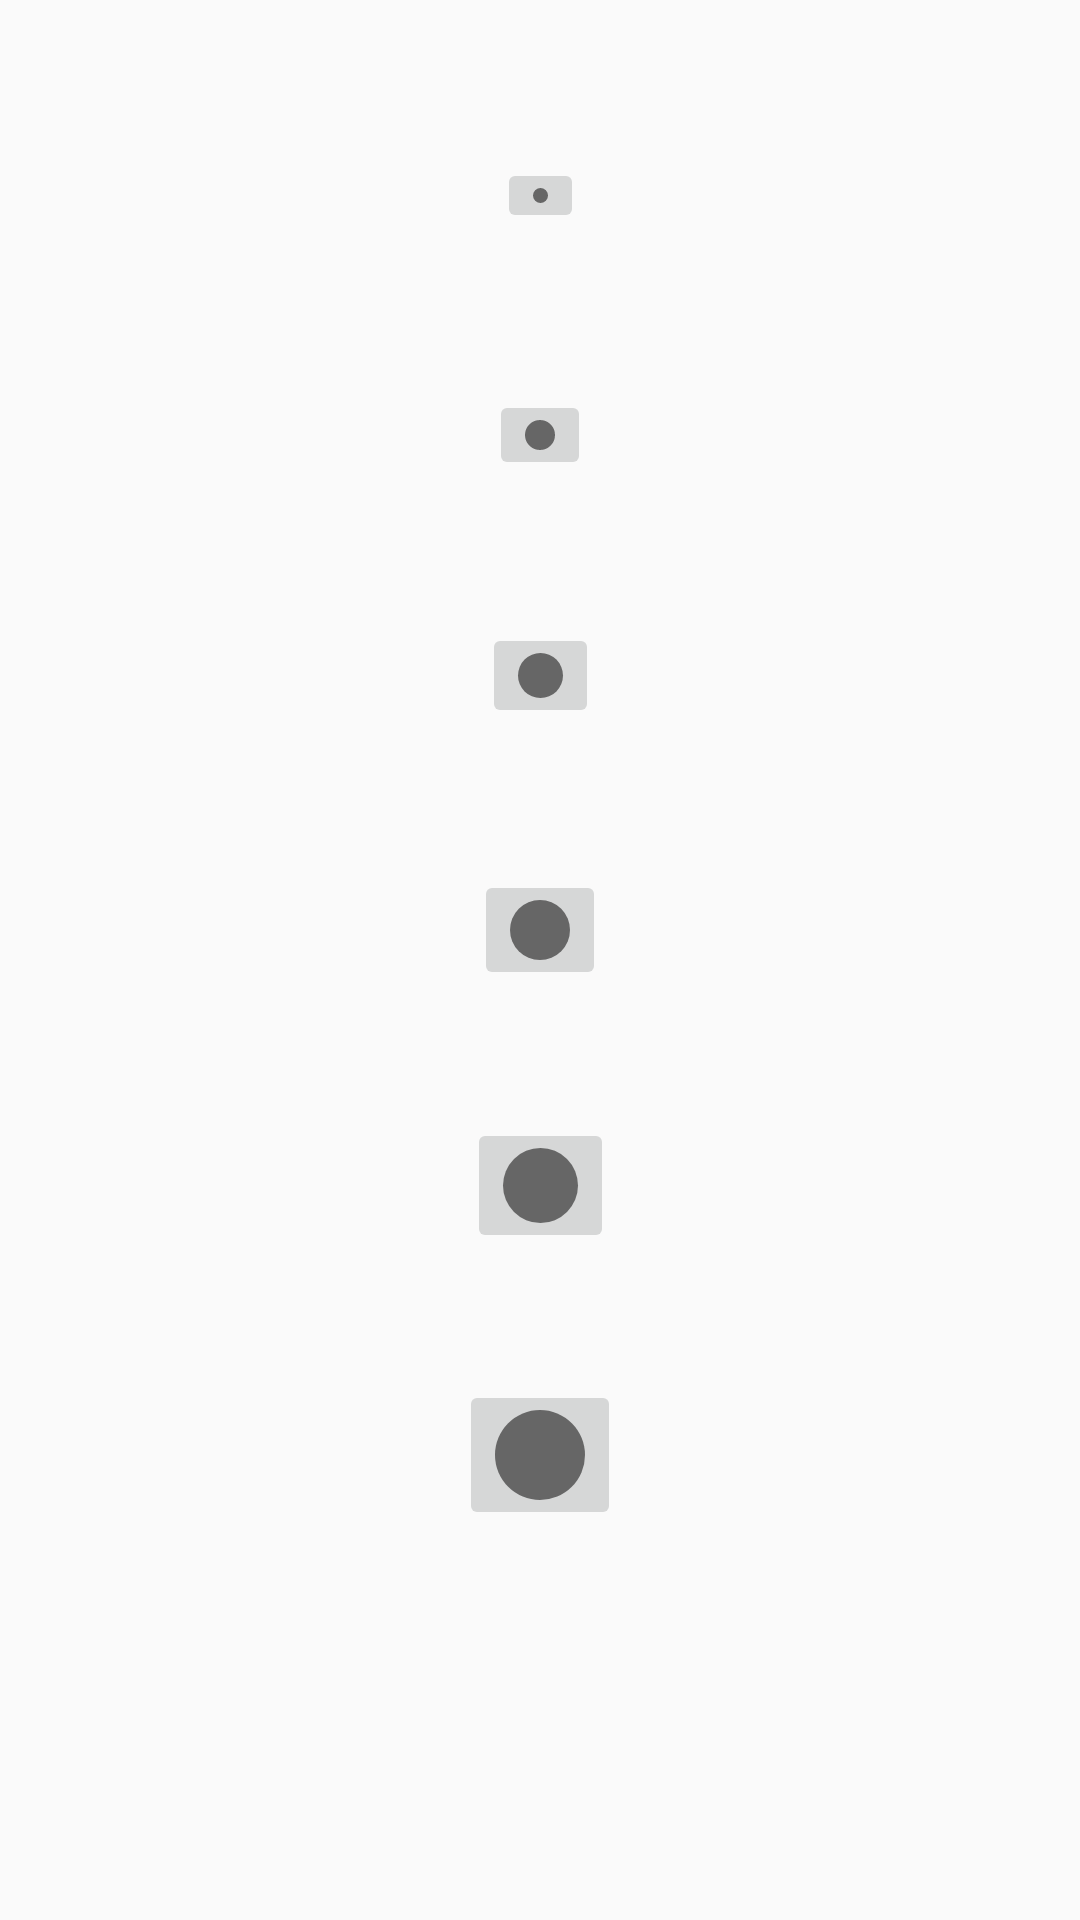

Icons on this 1080 x 1920 Android screen, each with the point to tap as (x=x, y=y):
xsmall brush size: (x=540, y=195)
